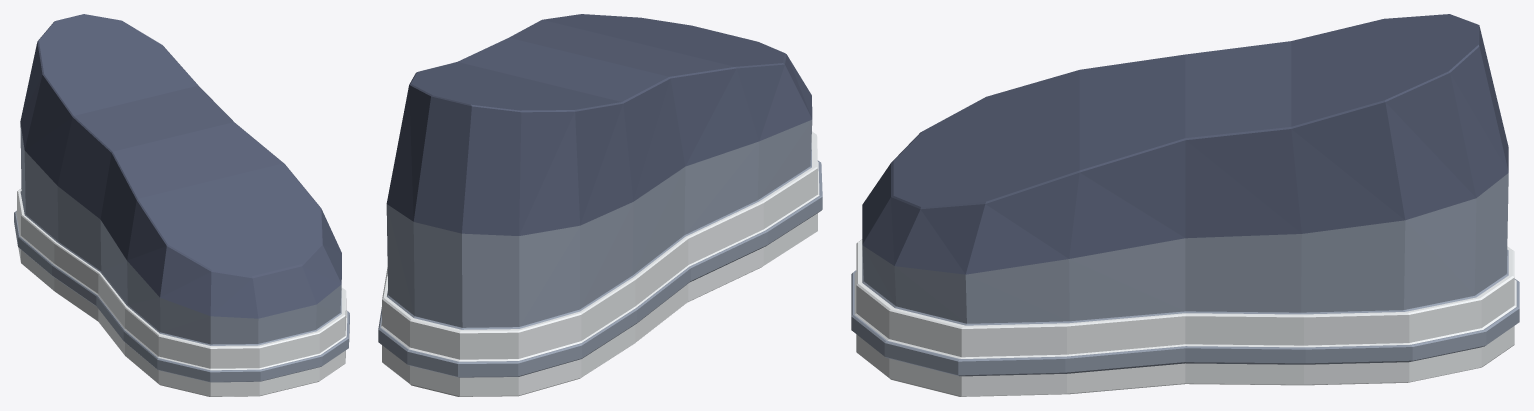
Rendered from Sneaker.fbx.
3 views of the same model, side by side, from view 1: azimuth 30°, elevation 25°; view 2: azimuth 150°, elevation 25°; view 3: azimuth 270°, elevation 25° (orthographic). The views are drawn at different scales.
Parts seen in each view (by area): view 1: Sneaker; view 2: Sneaker; view 3: Sneaker.
Part boxes in pixels (left/top/right/bottom): Sneaker: left=14, top=14, right=349, bottom=396; Sneaker: left=378, top=14, right=822, bottom=396; Sneaker: left=851, top=14, right=1519, bottom=396.
Bounding box in the file's own units: 0.1384 × 0.1449 × 0.2943.
